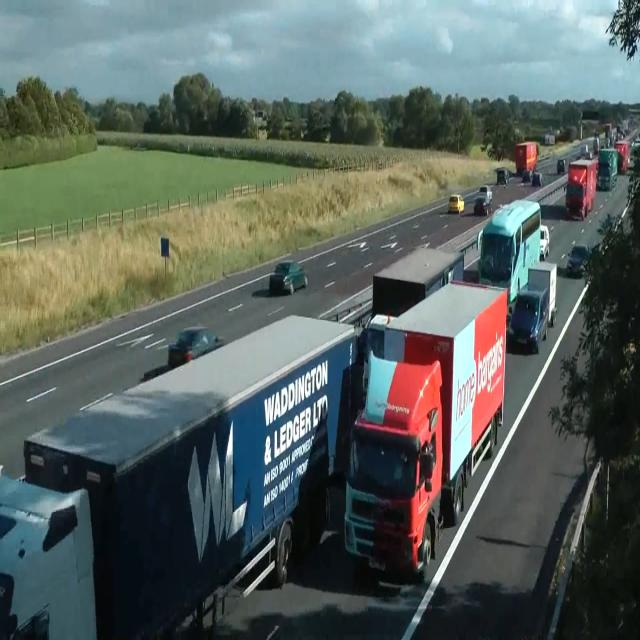bus: (168, 325, 225, 369), (269, 260, 308, 295), (566, 243, 590, 276), (448, 194, 464, 213), (473, 197, 489, 215), (495, 167, 510, 186), (480, 185, 492, 203), (580, 144, 592, 159), (531, 172, 543, 186), (557, 158, 565, 174), (522, 169, 531, 181)
car: (1, 126, 635, 636), (0, 467, 97, 638)
jeep: (508, 283, 548, 353)
minibus: (3, 312, 358, 638), (342, 278, 508, 583), (358, 246, 464, 396), (477, 198, 541, 315), (372, 246, 464, 318), (565, 156, 599, 220), (527, 260, 557, 326), (596, 147, 618, 191), (514, 140, 538, 177), (614, 140, 630, 174), (540, 224, 550, 259), (544, 132, 554, 145)
